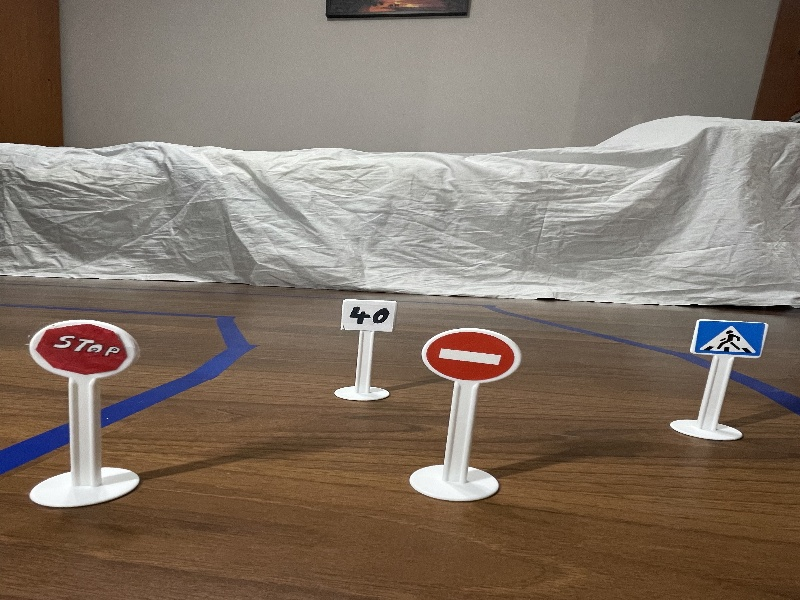interzis: (419, 321, 524, 387)
stop: (22, 309, 145, 385)
trecere_pietoni: (689, 309, 772, 364)
viteza_limita_40: (337, 295, 399, 345)
